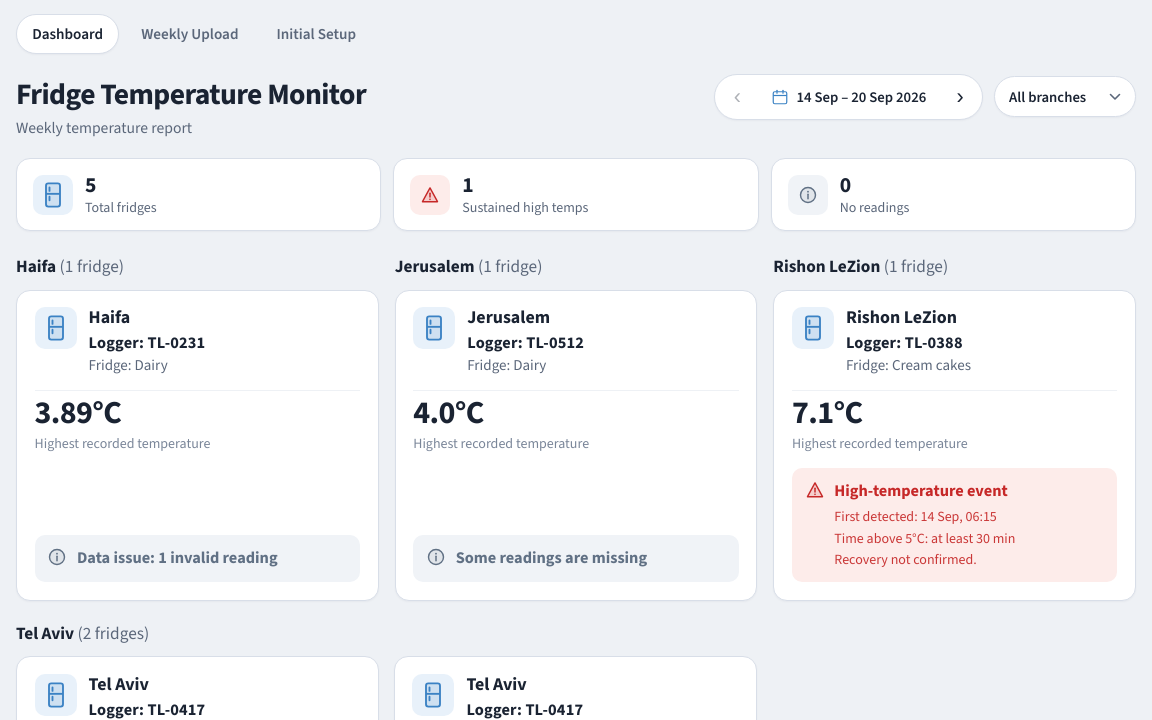
Test: App fridge details navigation › keeps the selected branch after returning from fridge details
Select "Rishon LeZion" in the dropdown named "Branch". click: (1065, 97)
box: x1=994 y1=76 x2=1136 y2=117
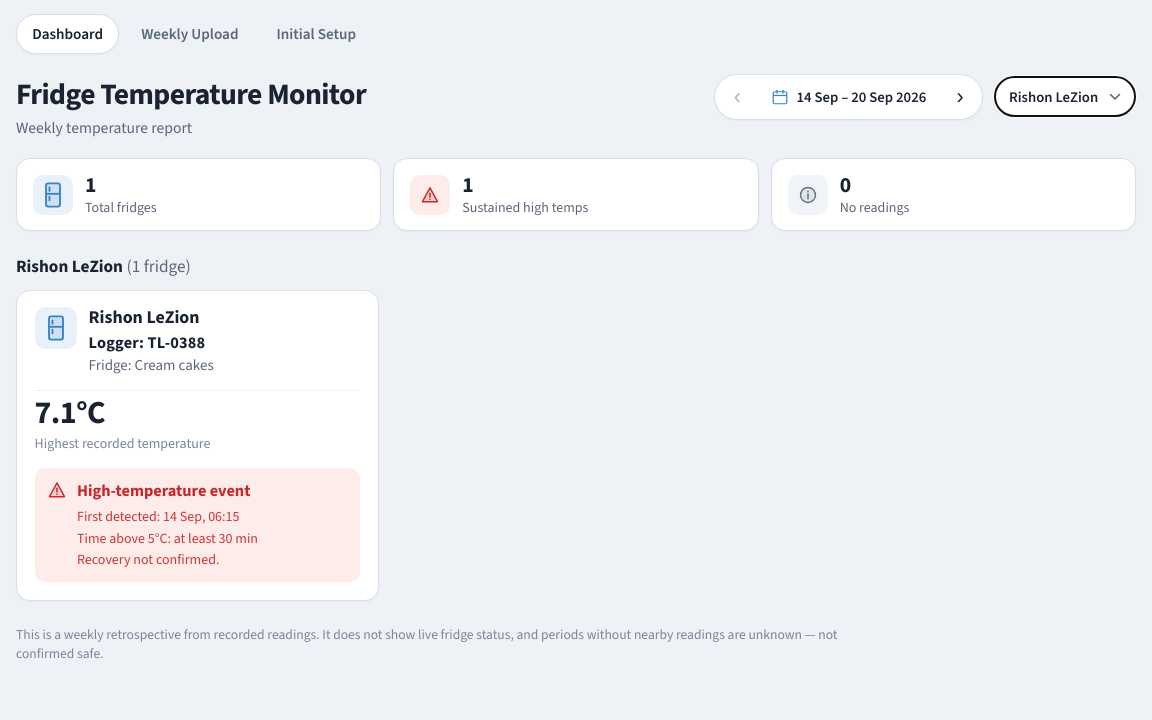
Check: the heading "Rishon LeZion (1 fridge)" is shown, box x1=16 y1=255 x2=191 y2=278
Click the element named "View details for Cream cakes, Rishon LeZion". click: (197, 445)
box: x1=16 y1=290 x2=379 y2=601
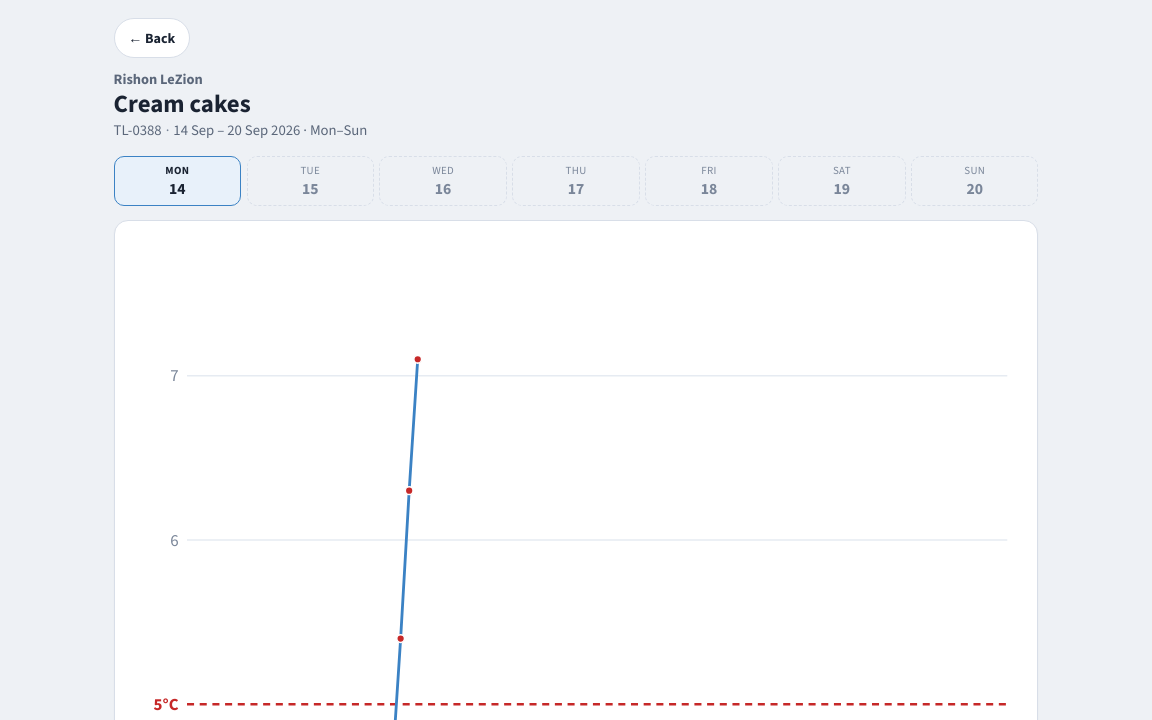
Check: the button "← Back" is shown
Click the button "← Back". click: (152, 38)
box: x1=114 y1=18 x2=190 y2=58
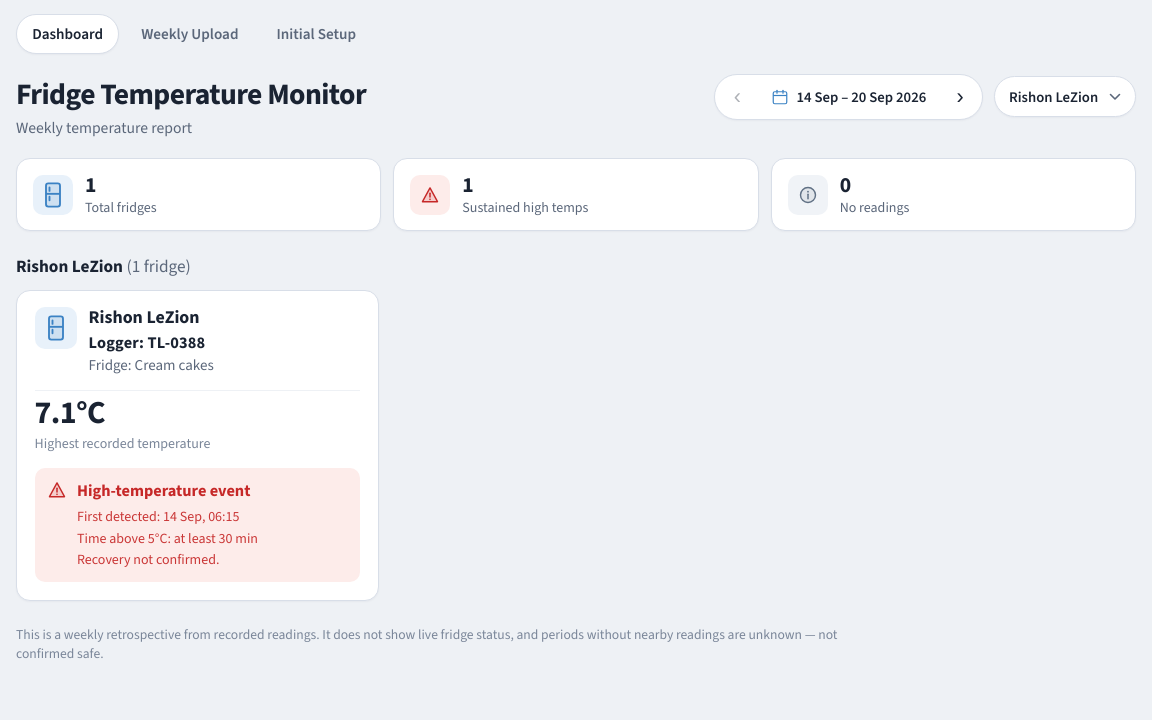
Check: the heading "Tel Aviv" is not shown
Check: the element named "View details for Cream cakes, Rishon LeZion" is shown, box x1=16 y1=290 x2=379 y2=601
